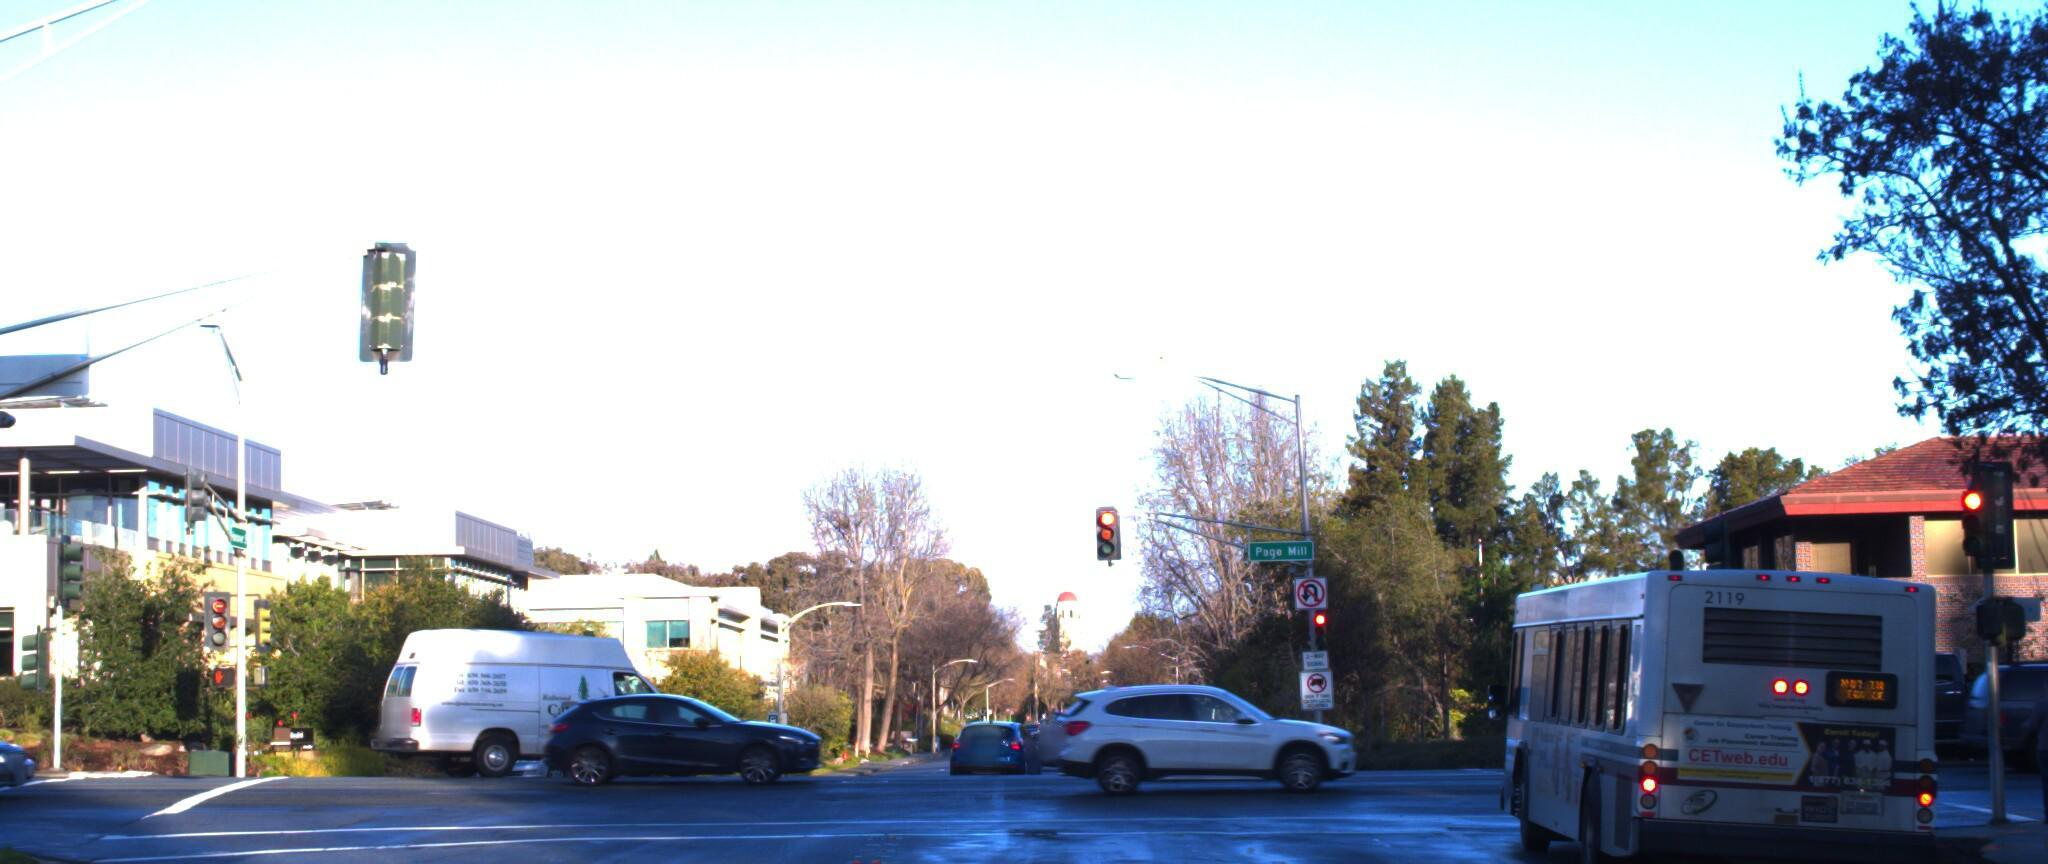bus: (1471, 504, 1950, 864)
car: (346, 630, 717, 780), (1690, 634, 2048, 757), (1042, 677, 1349, 794), (537, 683, 820, 790), (462, 707, 667, 780), (1932, 653, 2048, 773), (938, 717, 1048, 792), (0, 684, 47, 795)
